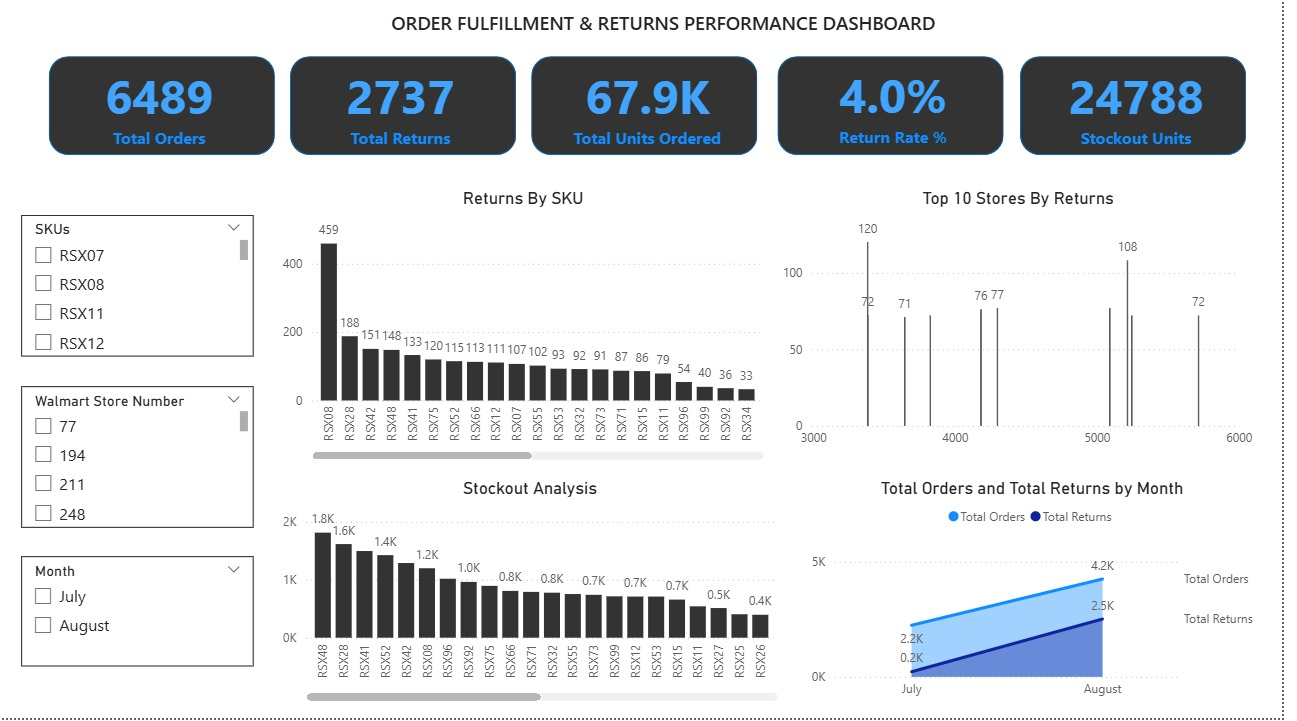

The dashboard page shown, as its layout file describes it:
{"tool":"powerbi","page":{"name":"Executive Summary","canvas":[1280,720],"ordinal":1},"visuals":[{"type":"shape","box":[53.5,61,225.2,98.3],"z":0,"group":"g1"},{"type":"slicer","fields":{"Values":["SKU.Column1"]},"box":[26.1,218.9,231.4,140.6],"z":0},{"type":"columnChart","title":"Returns By SKU","fields":{"Category":["SKU.Column1"],"Y":["Returns.Total Returns"]},"box":[281.1,191.6,488.9,276.2],"z":1000},{"type":"clusteredColumnChart","title":"Top 10 Stores By Returns","fields":{"Category":["WMStore-WH.Walmart Store Number"],"Y":["Returns.Total Returns"]},"box":[778.7,191.6,478.9,267.5],"z":2000},{"type":"group","id":"g1","title":"Group 1","box":[53.5,61,1191.7,98.3],"z":3000},{"type":"card","fields":{"Values":["Fullfillment.Total Orders"]},"box":[53.5,0,220.2,220.2],"z":4000},{"type":"card","fields":{"Values":["Returns.Total Return"]},"box":[293.6,0,220.2,220.2],"z":5000},{"type":"card","fields":{"Values":["Fullfillment.Total Qty Ordered"]},"box":[539.9,0,218.9,220.2],"z":6000},{"type":"card","fields":{"Values":["Returns.Return Rate %"]},"box":[783.7,0,220.2,218.9],"z":7000},{"type":"shape","box":[1020.1,61,225.2,98.3],"z":7000,"group":"g1"},{"type":"card","fields":{"Values":["Fullfillment.Stockout Qty"]},"box":[1026.3,0,218.9,220.2],"z":8000},{"type":"shape","box":[778.7,61,225.2,98.3],"z":8000,"group":"g1"},{"type":"shape","box":[293.6,61,225.2,98.3],"z":9000,"group":"g1"},{"type":"columnChart","title":"Stockout Analysis","fields":{"Category":["SKU.Column1"],"Y":["Fullfillment.Stockout Qty"]},"box":[281.1,480.2,502.6,227.6],"z":9000},{"type":"shape","box":[533.7,61,225.2,98.3],"z":10000,"group":"g1"},{"type":"lineChart","fields":{"Category":["Fullfillment.OrderDate.Variation.Date Hierarchy.Month","Fullfillment.OrderDate.Variation.Date Hierarchy.Day"],"Y":["Fullfillment.Total Orders","Returns.Total Returns"]},"box":[807.5,479.7,449.6,228.6],"z":10000},{"type":"slicer","fields":{"Values":["WMStore-WH.Walmart Store Number"]},"box":[26.1,388.7,231.4,140.6],"z":11000},{"type":"slicer","fields":{"Values":["Fullfillment.OrderDate.Variation.Date Hierarchy.Month"]},"box":[26.1,558.5,231.4,109.5],"z":12000},{"type":"textbox","box":[388.8,10,596.2,38.8],"z":13000}]}

Visuals, with their boxes in screenshot pixels (x1, y1, x2, y2), scaled from the page's 1280x720 canvas onto the 1297x721 screenshot:
shape: region(54, 61, 282, 160)
slicer - SKU.Column1: region(26, 219, 261, 360)
"Returns By SKU" columnChart: region(285, 192, 780, 468)
"Top 10 Stores By Returns" clusteredColumnChart: region(789, 192, 1274, 460)
"Group 1" group: region(54, 61, 1262, 160)
card - Fullfillment.Total Orders: region(54, 0, 277, 221)
card - Returns.Total Return: region(297, 0, 521, 221)
card - Fullfillment.Total Qty Ordered: region(547, 0, 769, 221)
card - Returns.Return Rate %: region(794, 0, 1017, 219)
shape: region(1034, 61, 1262, 160)
card - Fullfillment.Stockout Qty: region(1040, 0, 1262, 221)
shape: region(789, 61, 1017, 160)
shape: region(297, 61, 526, 160)
"Stockout Analysis" columnChart: region(285, 481, 794, 709)
shape: region(541, 61, 769, 160)
lineChart - Fullfillment.OrderDate.Variation.Date Hierarchy.Month x Fullfillment.OrderDate.Variation.Date Hierarchy.Day: region(818, 480, 1274, 709)
slicer - WMStore-WH.Walmart Store Number: region(26, 389, 261, 530)
slicer - Fullfillment.OrderDate.Variation.Date Hierarchy.Month: region(26, 559, 261, 669)
textbox: region(394, 10, 998, 49)
